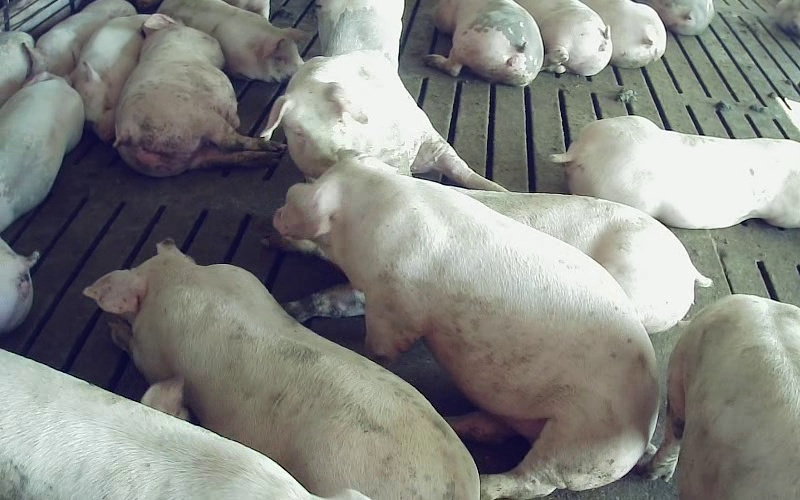pig: (85, 242, 478, 499), (261, 51, 504, 189), (642, 295, 799, 499), (552, 116, 799, 228), (114, 15, 283, 176), (0, 72, 84, 231), (157, 0, 304, 81), (70, 14, 148, 141), (516, 0, 611, 75), (581, 0, 665, 67)
